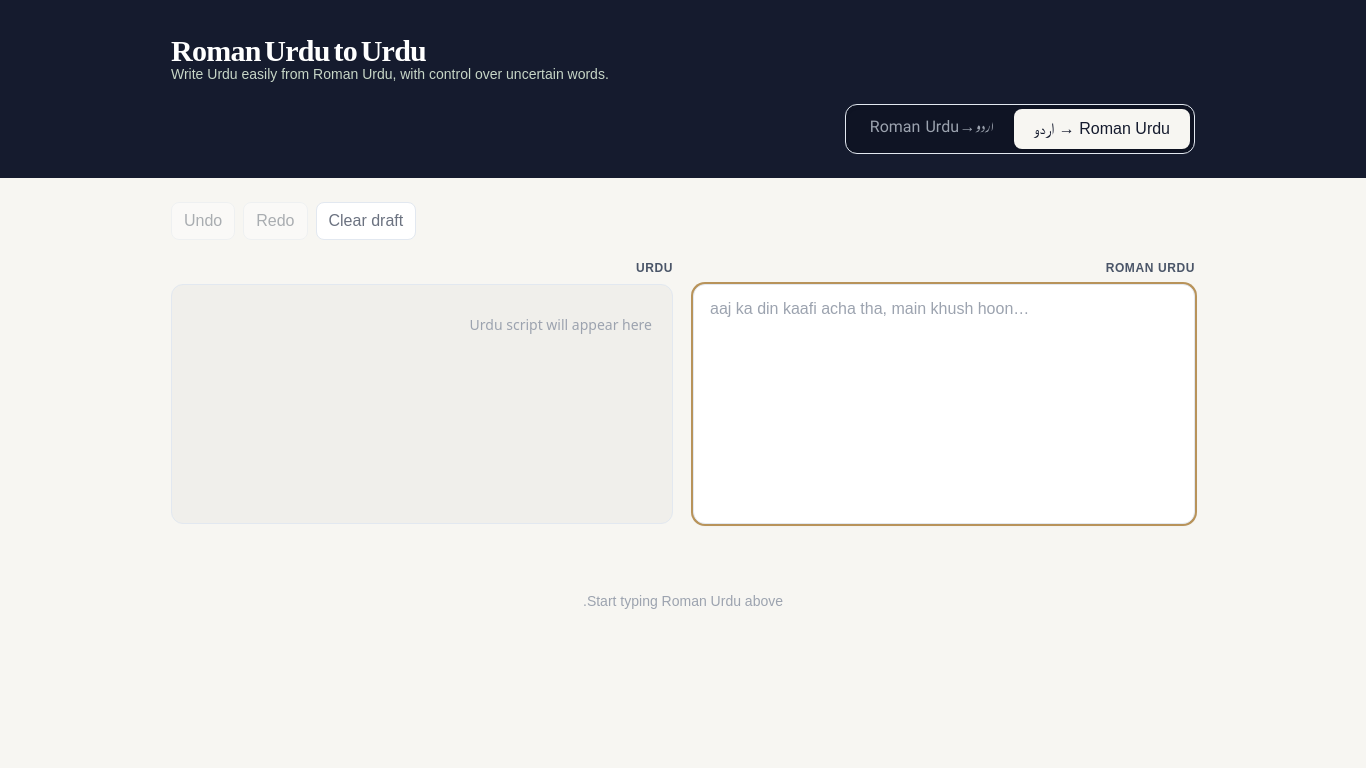
Test: roman conversion still works in dual layout
The width and height of the screenshot is (1366, 768).
Type "aaj mein kuch kehna chahta hon" into the text box with id "roman-input" at (944,404), box top-left (693, 284), bottom-right (1195, 524)
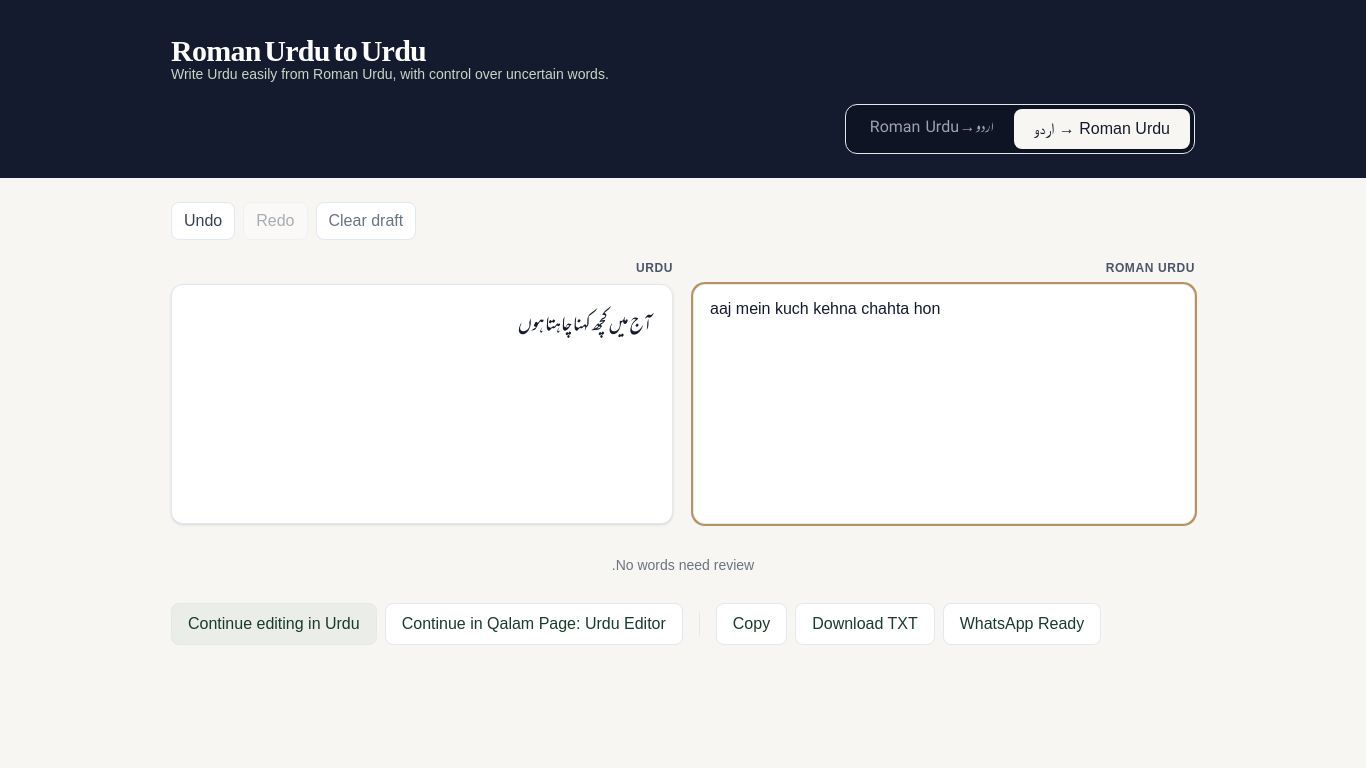
Now the message shows "آج", box top-left (518, 306), bottom-right (652, 344)
Now the message shows "کہنا", box top-left (518, 306), bottom-right (652, 344)
Now the message shows "ہوں", box top-left (518, 306), bottom-right (652, 344)
